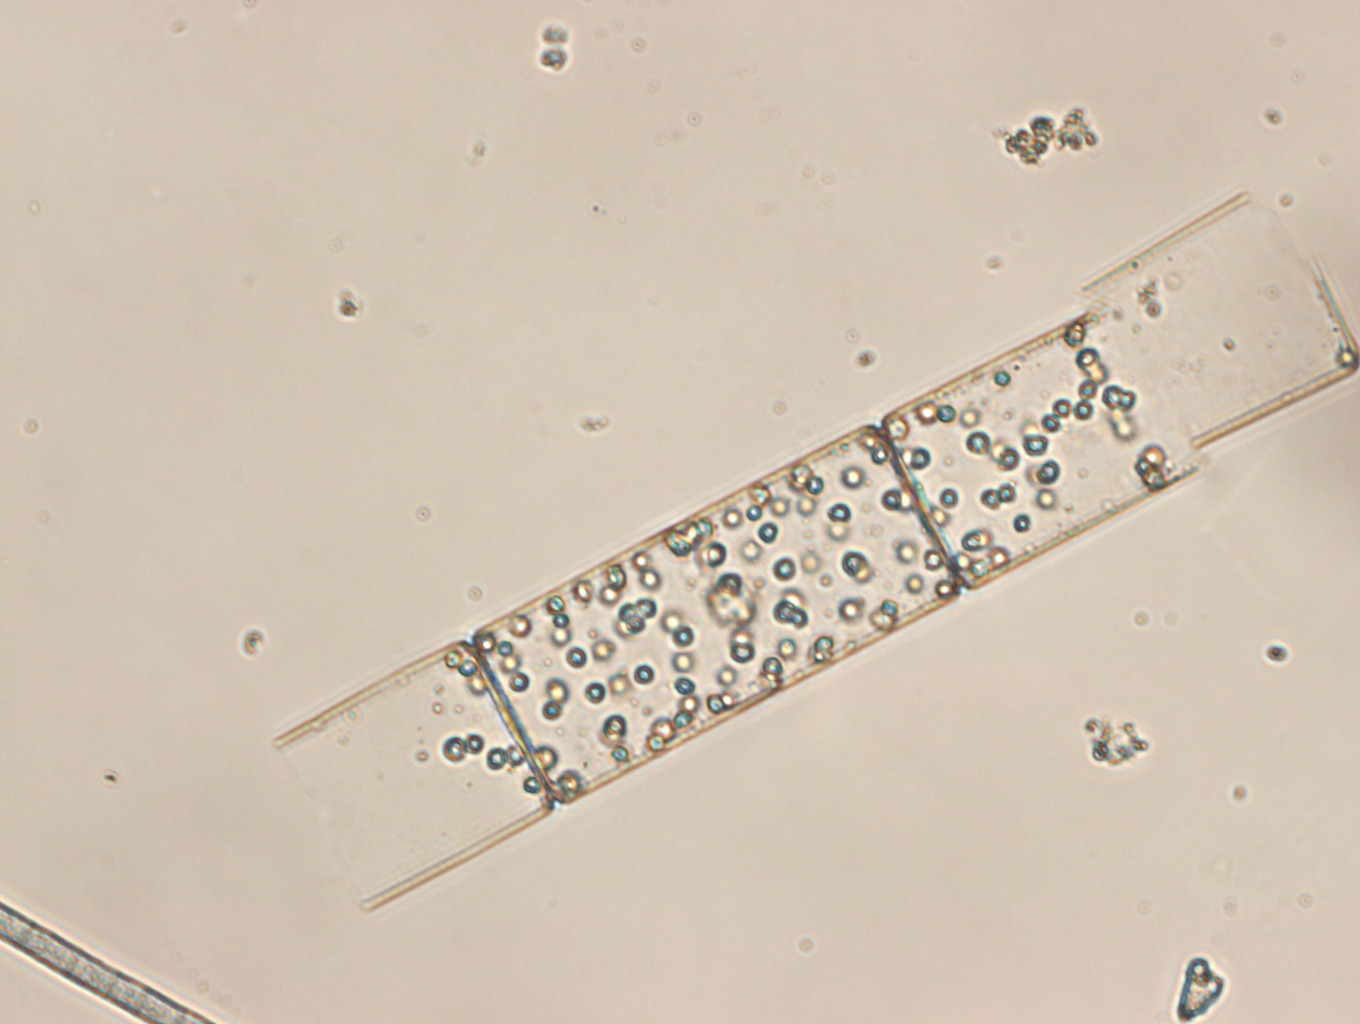guinardia flaccida: (274, 191, 1360, 914)
